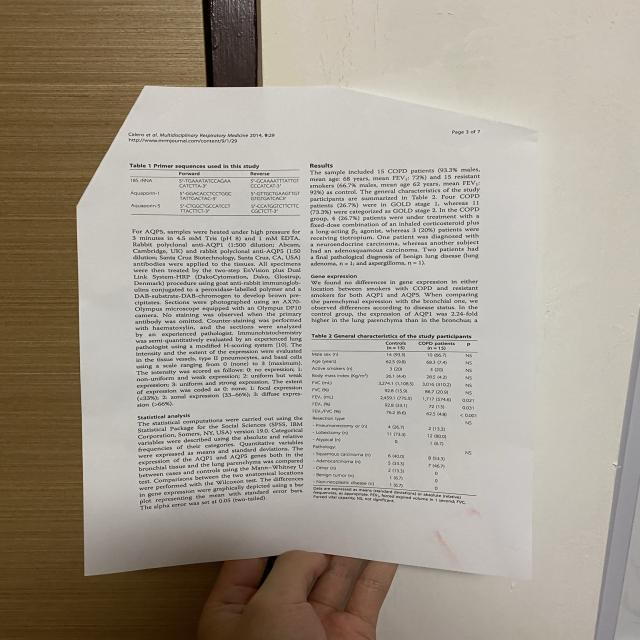document: (78, 86, 537, 578)
